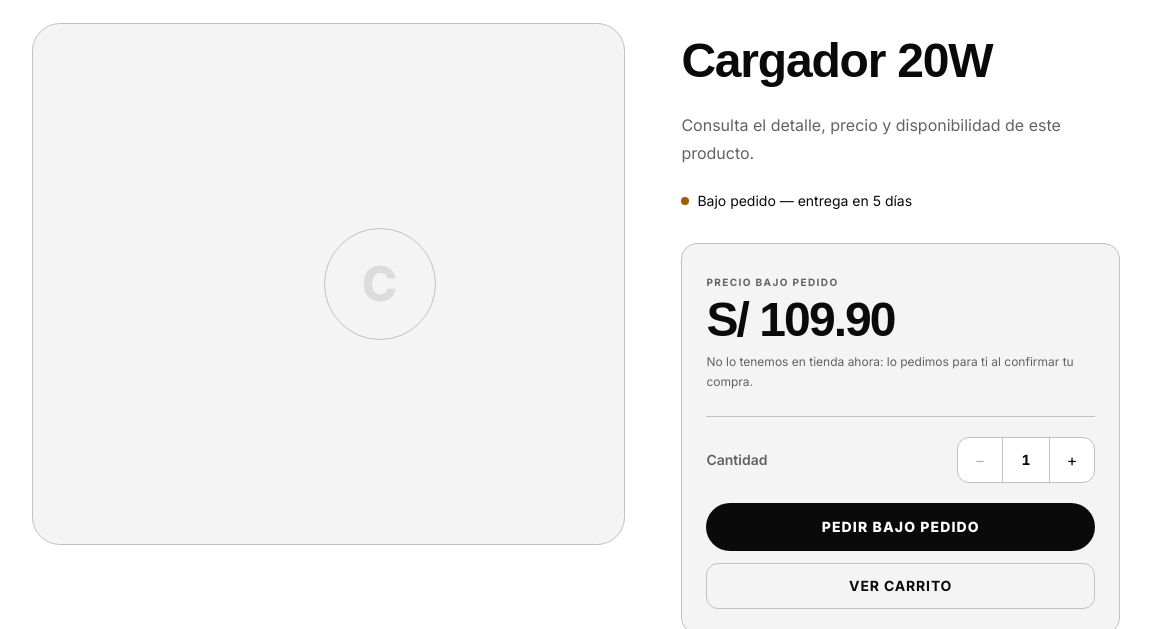
ficha de producto › sin stock y con oferta: dice el plazo, muestra el precio bajo pedido y lo pide explícitamente
Check: the text with test id "product-availability" reads "Bajo pedido — entrega en 5 días", box [697, 192, 912, 209]
Check: the text with test id "product-price" reads "S/ 109.90", box [706, 293, 895, 346]
What coordinates should you click on to do the following:
click the button "Pedir bajo pedido"
I would click on:
 (901, 527)
Its box is [706, 503, 1095, 551].
(page scrolled)
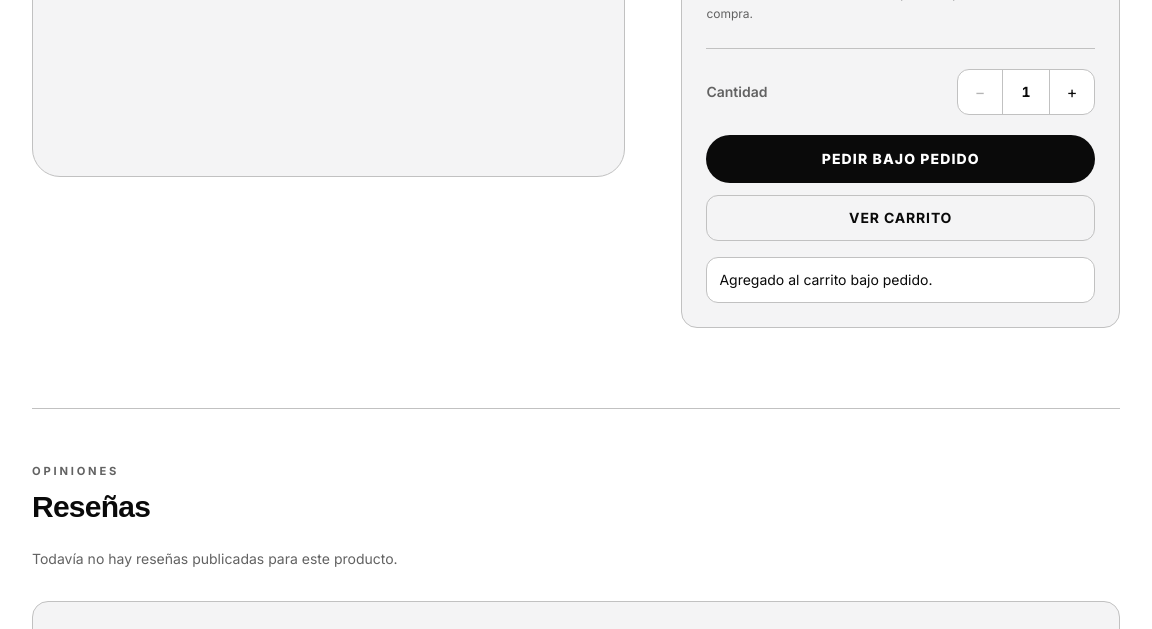
Check: the message reads "Agregado al carrito bajo pedido.", box [719, 271, 932, 288]
